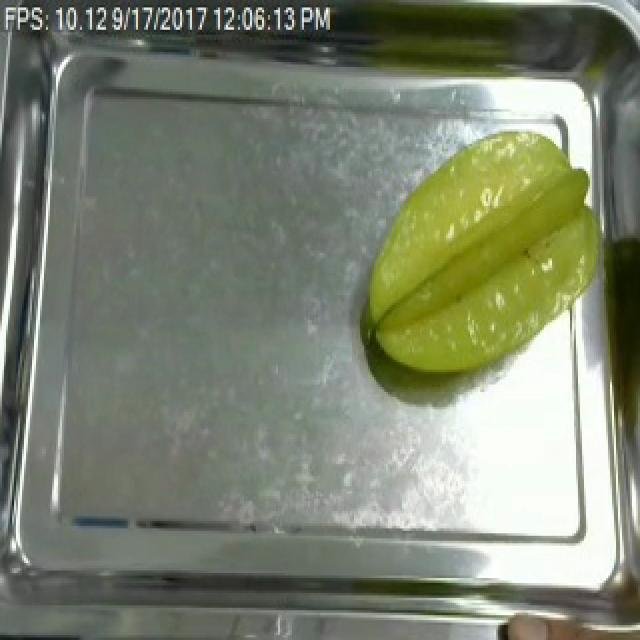fruit: (356, 117, 614, 382)
